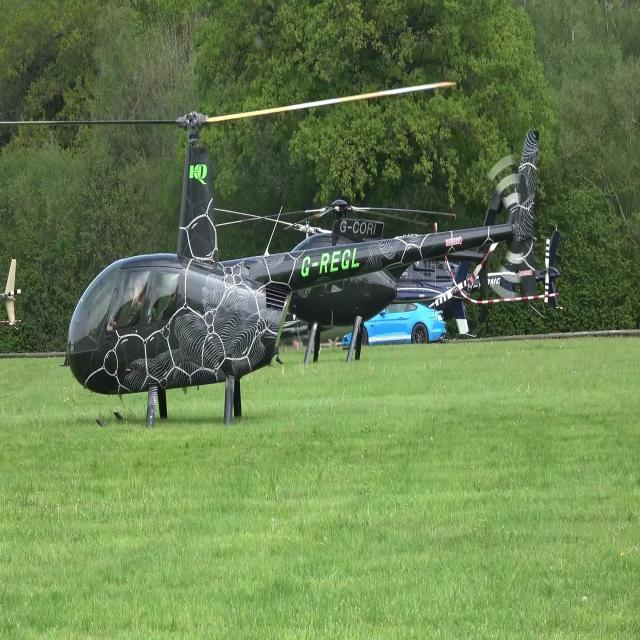CIV_HELO: (62, 110, 538, 443)
